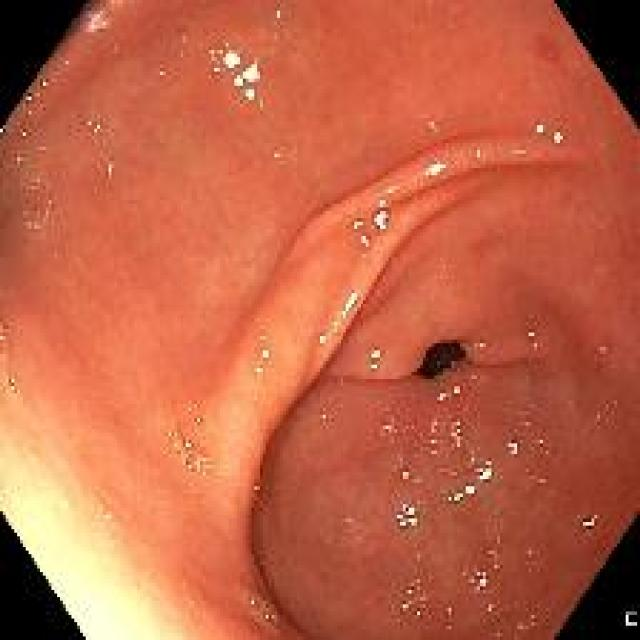bubbles: (173, 410, 219, 464), (508, 372, 537, 433), (343, 218, 373, 255), (18, 209, 54, 231), (407, 578, 434, 606), (510, 617, 541, 637), (3, 369, 19, 398), (579, 512, 599, 534), (263, 609, 281, 632), (181, 454, 197, 479), (445, 12, 463, 34), (0, 321, 10, 359), (339, 509, 357, 530), (244, 592, 261, 613), (86, 116, 103, 136), (503, 597, 522, 614), (103, 157, 117, 178), (12, 123, 30, 138), (602, 397, 617, 413), (102, 508, 114, 527), (493, 496, 504, 516), (14, 148, 24, 169), (108, 39, 121, 55), (546, 440, 555, 463), (444, 604, 455, 622), (153, 65, 166, 79), (257, 557, 268, 572), (46, 192, 58, 204), (442, 579, 453, 592), (443, 625, 457, 633)
contrast: (417, 337, 469, 382)
saturation: (1, 406, 184, 637)
specularity: (206, 44, 239, 71), (389, 503, 421, 529), (428, 414, 443, 459), (450, 416, 464, 457), (467, 568, 489, 593), (378, 418, 398, 444), (241, 58, 262, 81), (475, 461, 495, 484), (422, 159, 445, 178), (341, 288, 355, 319), (487, 543, 503, 570), (250, 362, 267, 383), (373, 211, 387, 231), (531, 121, 547, 138), (445, 490, 464, 504), (370, 348, 381, 372), (526, 330, 538, 352), (508, 438, 520, 457), (329, 318, 341, 337), (463, 481, 476, 497), (37, 75, 50, 91), (473, 145, 486, 161), (550, 131, 564, 145), (315, 331, 327, 346), (401, 467, 410, 487), (398, 600, 410, 613), (24, 92, 36, 105), (259, 347, 271, 360), (433, 391, 445, 404), (232, 75, 243, 89), (246, 85, 255, 101), (271, 150, 282, 163), (450, 384, 460, 398), (472, 341, 485, 351), (305, 325, 314, 339), (256, 332, 268, 342), (378, 197, 388, 209), (383, 187, 398, 194), (414, 610, 424, 620), (253, 482, 260, 495), (319, 412, 327, 423), (0, 125, 6, 138), (486, 603, 494, 612), (429, 121, 435, 128), (517, 148, 523, 154)
